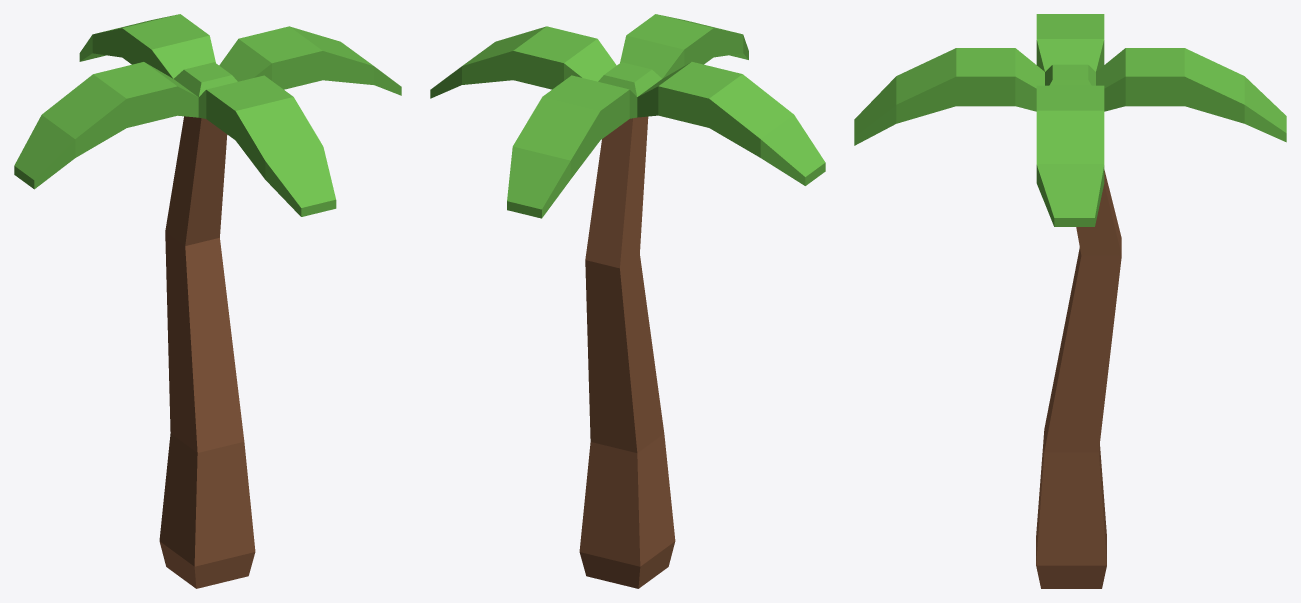
The model's file is tree_palm.glb.
3 renders of one model, left to right at view 1: azimuth 30°, elevation 25°; view 2: azimuth 150°, elevation 25°; view 3: azimuth 270°, elevation 25°, orthographic.
Visible parts, largest first — view 1: tree_palmTall; view 2: tree_palmTall; view 3: tree_palmTall.
Part boxes in pixels (<box>): tree_palmTall: <box>14,14,401,588</box>; tree_palmTall: <box>430,14,825,588</box>; tree_palmTall: <box>854,14,1286,588</box>.
Size of the model in its own units: 1.03 by 1.36 by 1.03.
